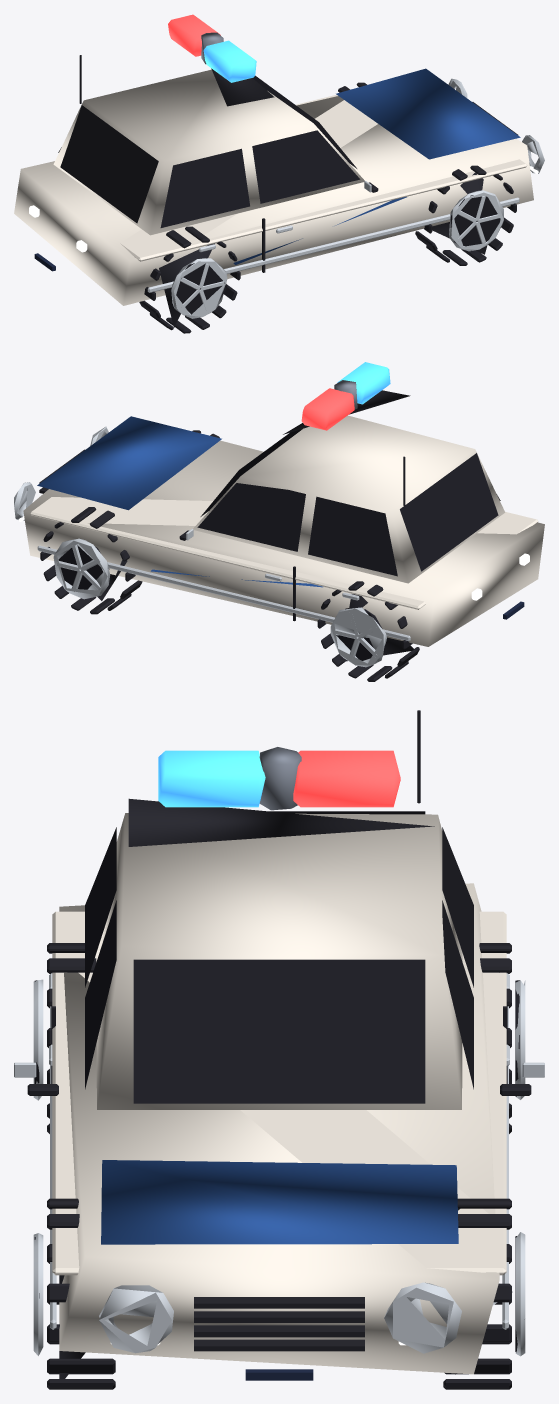
Rendered from police_car.glb.
The picture shows the model from 3 angles, top to bottom: view 1: azimuth 30°, elevation 25°; view 2: azimuth 150°, elevation 25°; view 3: azimuth 270°, elevation 25°; orthographic projection. The views are drawn at different scales.
Visible parts, largest first — view 1: police_car.008, beacon.022; view 2: police_car.008, beacon.022; view 3: police_car.008, beacon.022.
Boxes of the visible parts, x1,y1,x2,y2 form: police_car.008: [14, 55, 544, 333]; beacon.022: [168, 14, 256, 82]; police_car.008: [14, 390, 544, 681]; beacon.022: [301, 362, 390, 430]; police_car.008: [14, 710, 544, 1389]; beacon.022: [158, 747, 400, 810].
Size of the model in its own units: 4.48 by 2.16 by 2.36.
1 material, 1 textured.
